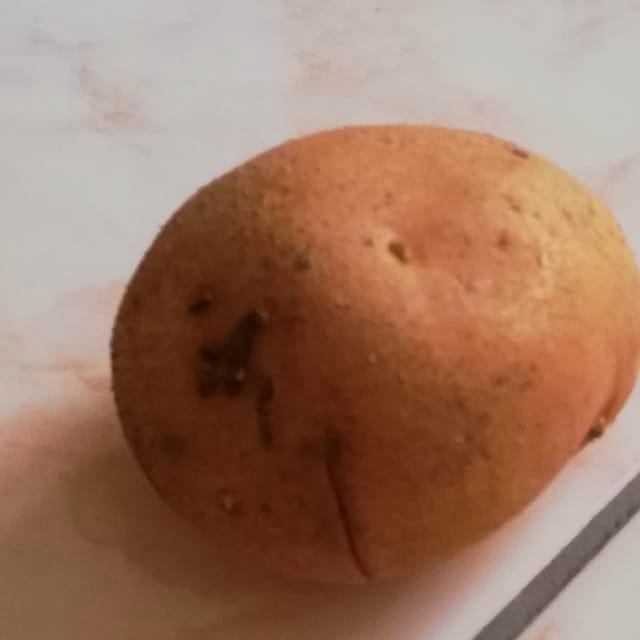potato: (85, 82, 640, 609)
